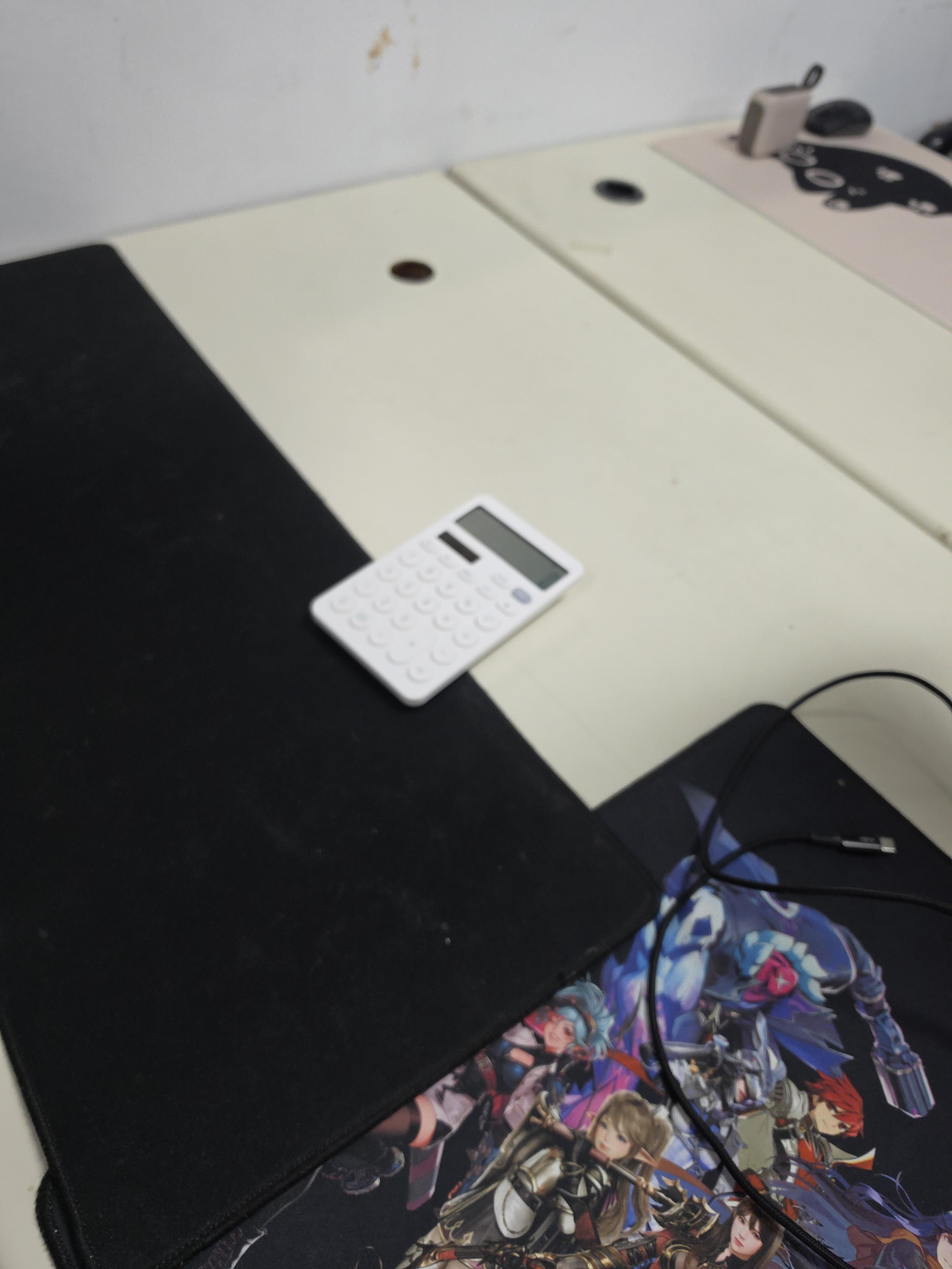calculator: (308, 492, 584, 707)
